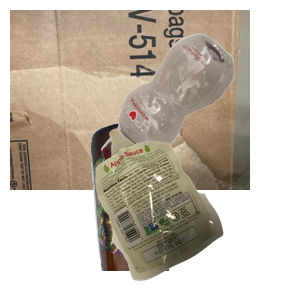cardboard: (10, 10, 250, 190)
glass: (88, 120, 252, 300)
plastic: (99, 31, 300, 189)
trash: (93, 126, 300, 300)
